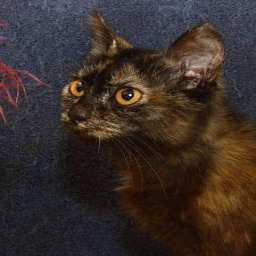cat: (58, 10, 256, 256)
